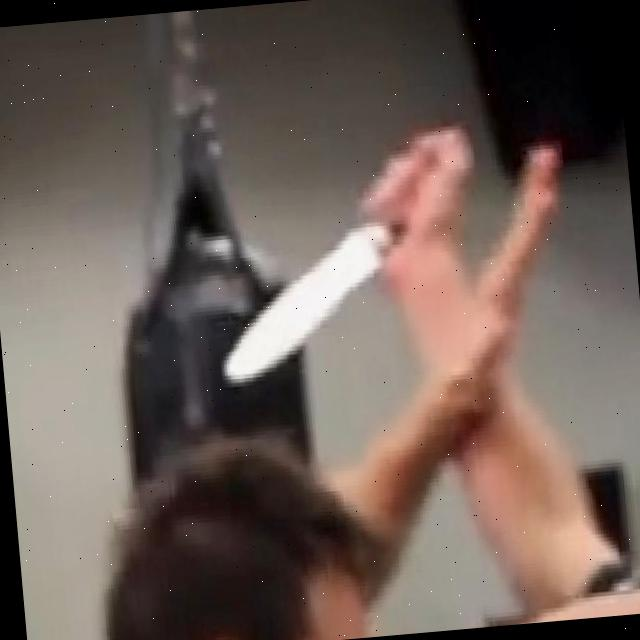suspicion: (195, 96, 622, 626), (208, 225, 410, 392)
